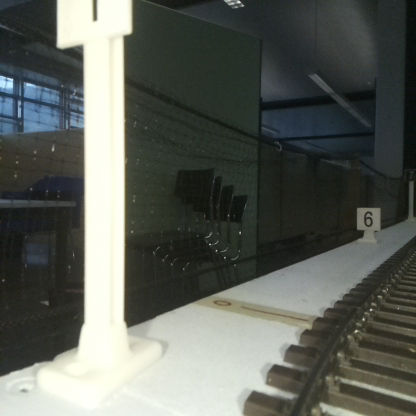white-stop-6: (357, 207, 380, 239)
